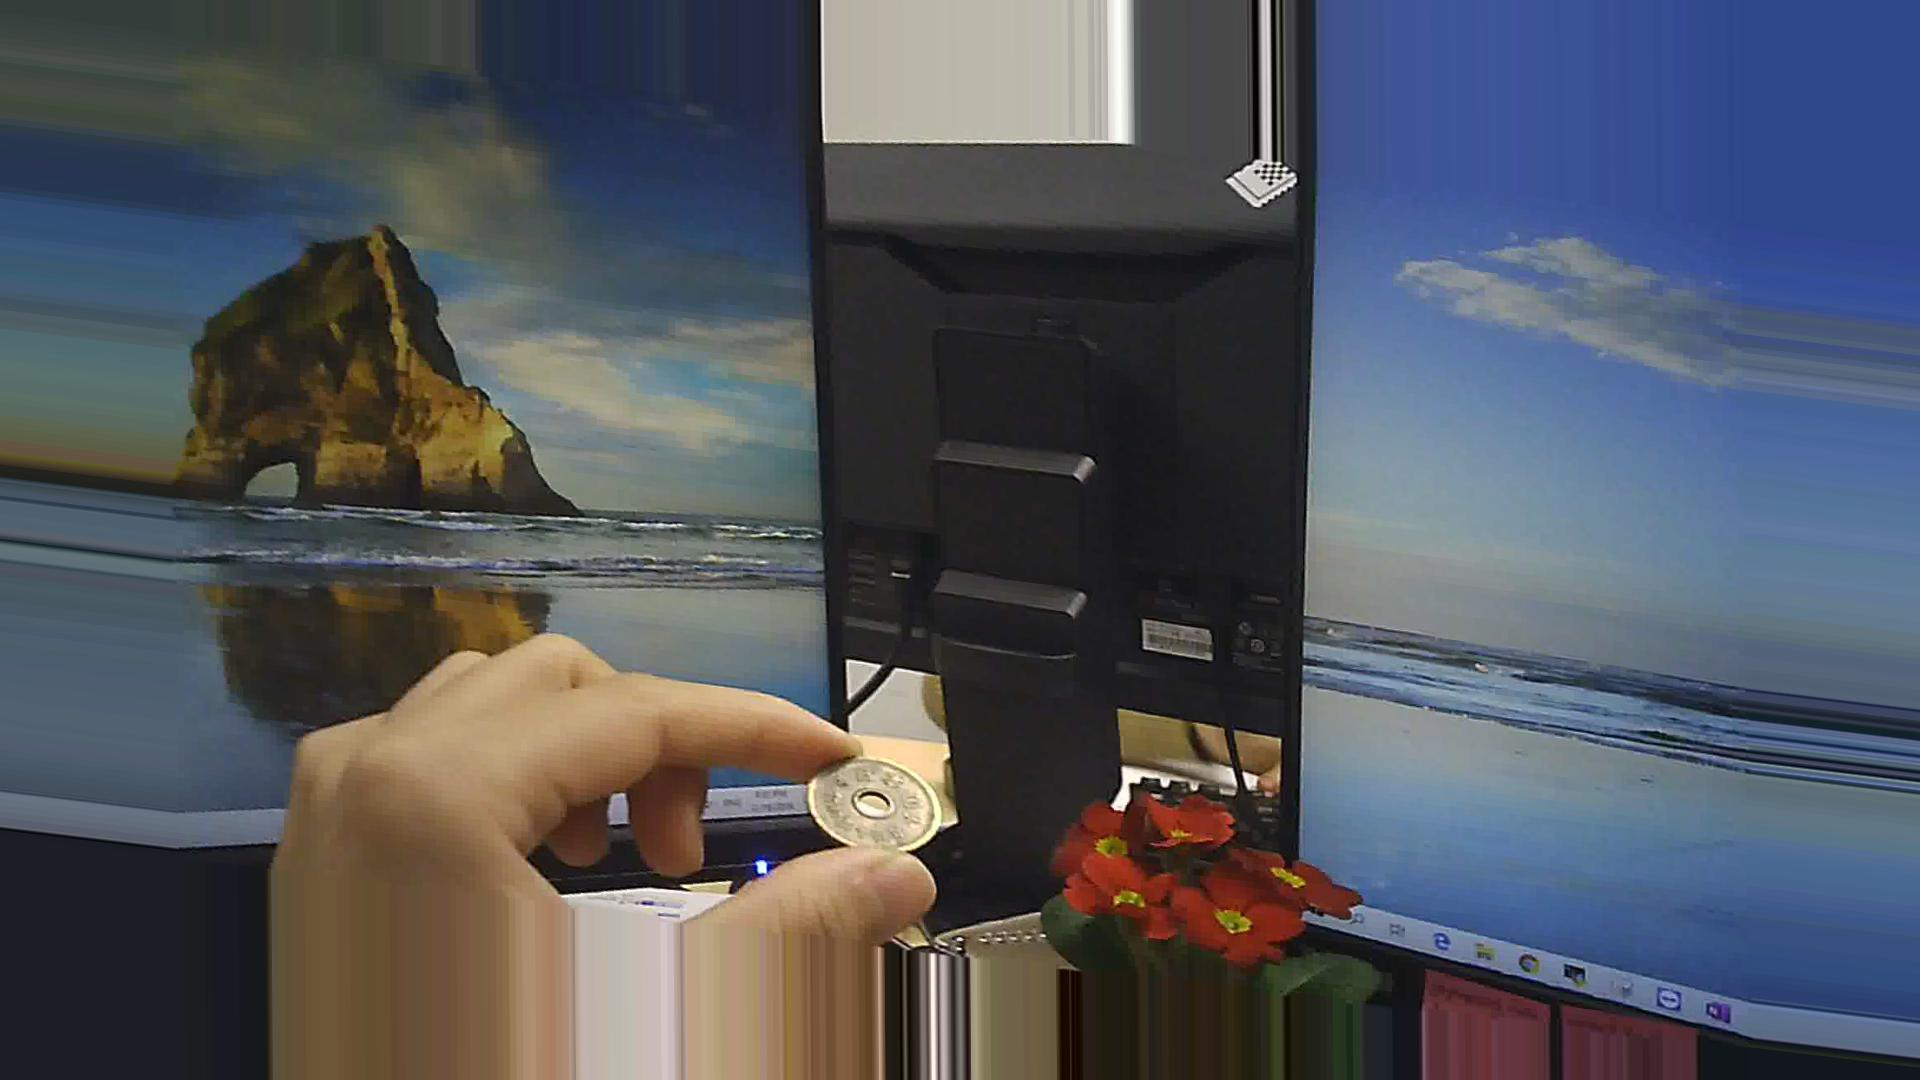5 Yen: (793, 748, 934, 847)
